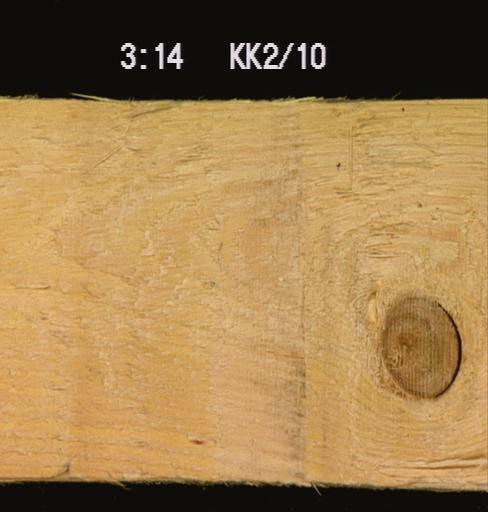dry_knot: (380, 293, 464, 399)
split: (379, 450, 482, 472)
